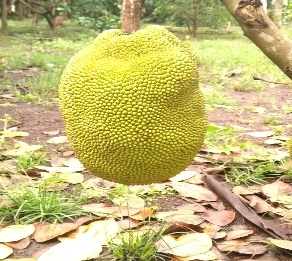Mit: (55, 28, 204, 182)
